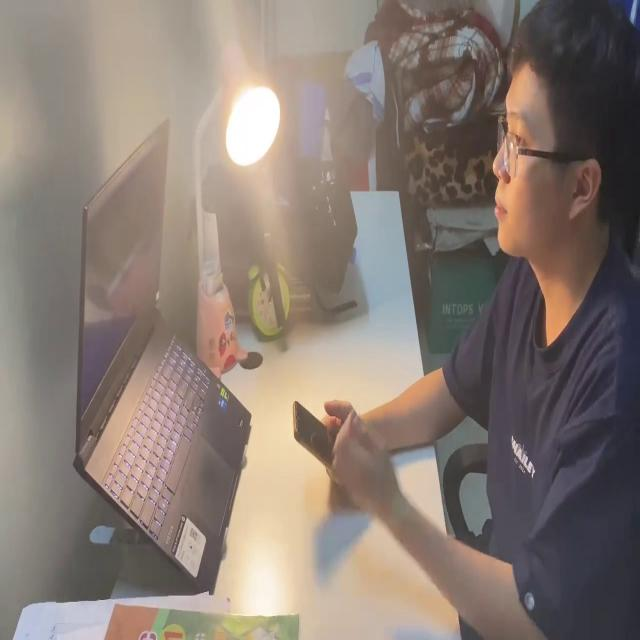book: (3, 583, 301, 640)
laptop: (65, 115, 254, 596)
phone: (290, 392, 344, 475)
student: (311, 0, 640, 640)
